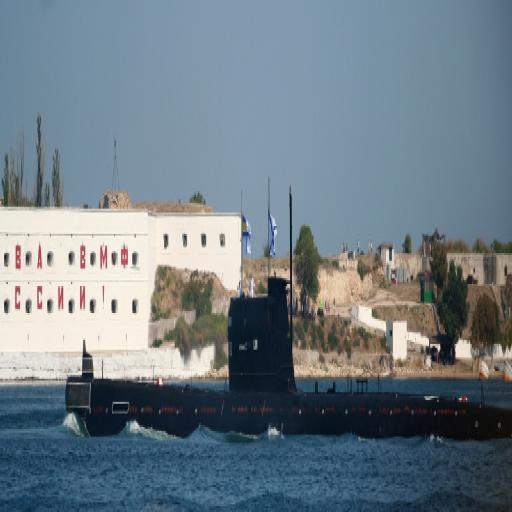submarine: (67, 272, 512, 436)
